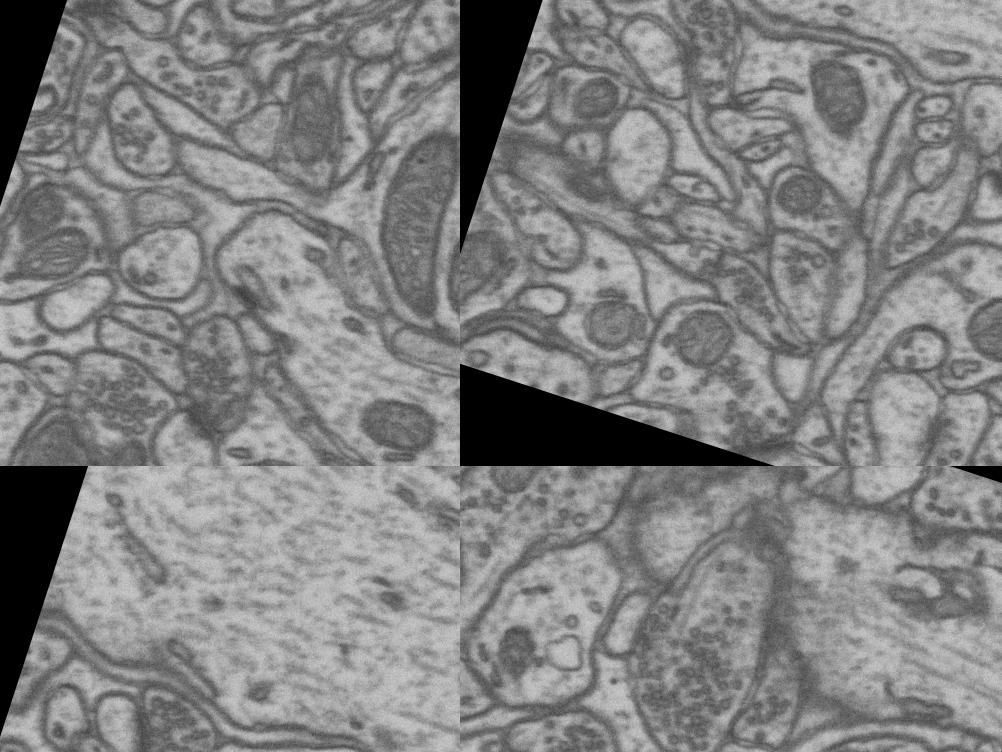mitochondria: (478, 104, 650, 242), (351, 112, 460, 317), (460, 198, 559, 351), (772, 25, 881, 126), (558, 272, 662, 377), (607, 466, 735, 549), (663, 300, 766, 400), (264, 61, 354, 171), (474, 466, 622, 524), (350, 384, 449, 466), (9, 208, 100, 296), (9, 400, 129, 466), (764, 162, 845, 255), (948, 274, 1002, 389), (486, 602, 558, 678), (5, 172, 75, 250), (550, 0, 686, 39), (937, 466, 1002, 539), (423, 228, 460, 351), (207, 442, 343, 466), (98, 431, 157, 466), (895, 458, 984, 466)
